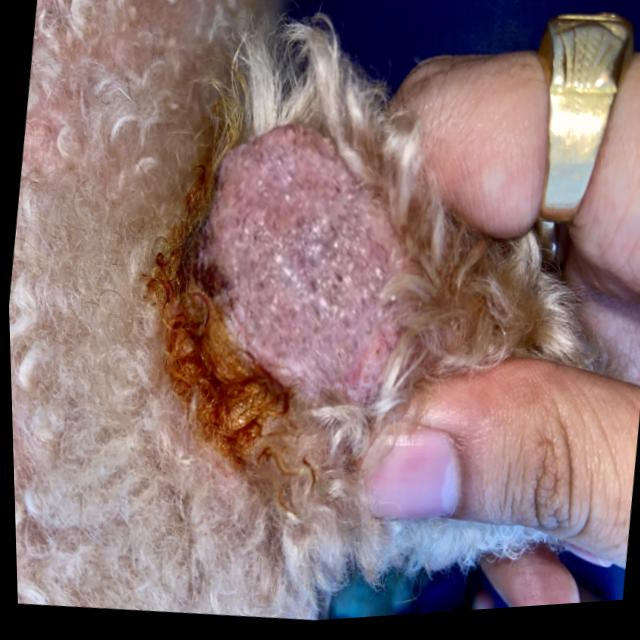ringworm: (179, 98, 430, 460)
